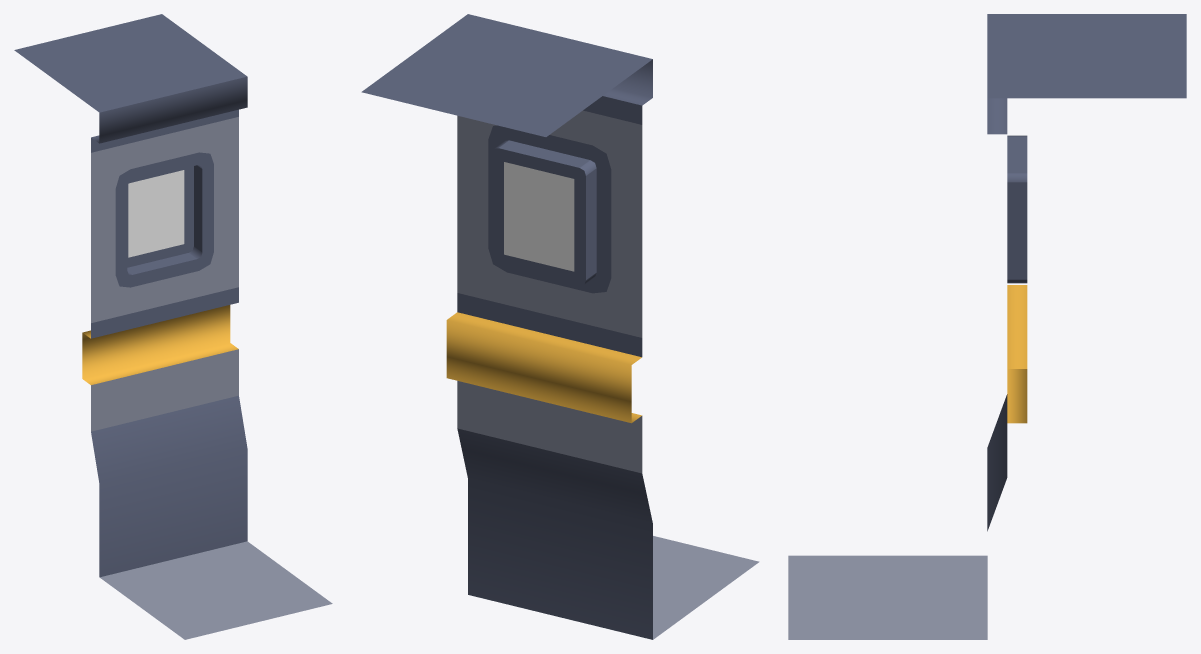
The model's file is StructureWindow-transformed.glb.
3 views of the same model, side by side, from view 1: azimuth 30°, elevation 25°; view 2: azimuth 150°, elevation 25°; view 3: azimuth 270°, elevation 25° (orthographic). The views are drawn at different scales.
Parts seen in each view (by area): view 1: structure-window; view 2: structure-window; view 3: structure-window.
Part boxes in pixels (left/top/right/bottom): structure-window: left=14, top=14, right=332, bottom=639; structure-window: left=361, top=14, right=759, bottom=639; structure-window: left=788, top=14, right=1186, bottom=639.
Bounding box in the file's own units: 1 × 3 × 2.
